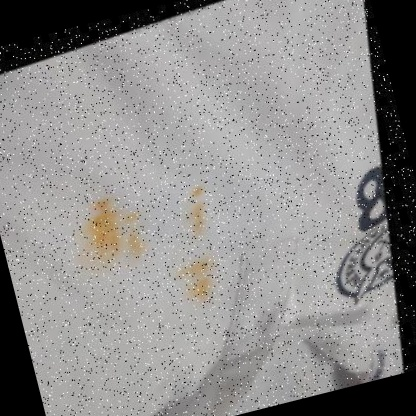kimchi: (71, 191, 156, 273), (174, 252, 222, 309), (175, 178, 222, 235)
